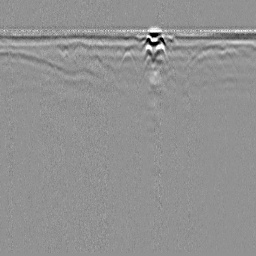cavity: (117, 49, 139, 73)
